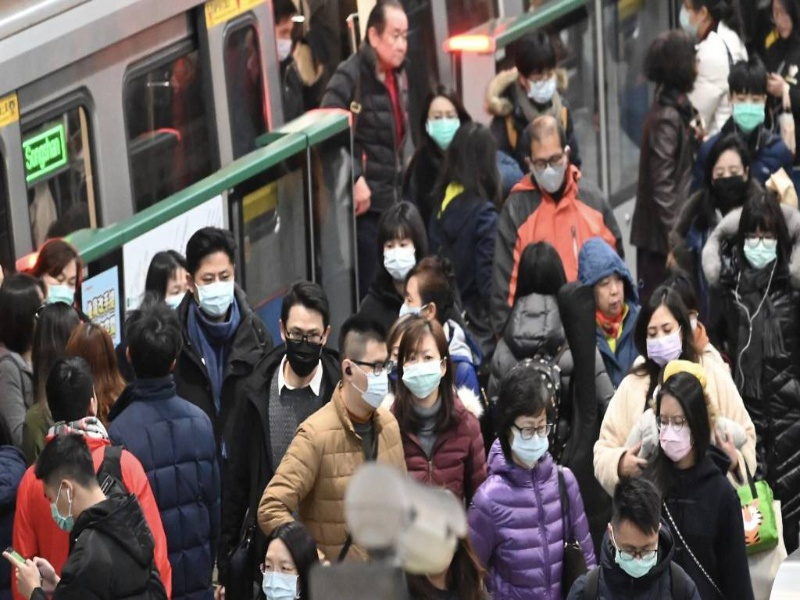ManaoArotava: (25, 447, 101, 550), (396, 308, 457, 414), (336, 319, 400, 420), (604, 483, 667, 585), (519, 118, 584, 216), (499, 378, 558, 482), (182, 232, 244, 325), (738, 199, 796, 291), (279, 283, 330, 379), (371, 205, 430, 285), (653, 386, 706, 474), (33, 238, 90, 319), (701, 131, 751, 212), (647, 286, 691, 378), (418, 88, 471, 158), (727, 62, 770, 148)
TsisyArotava: (583, 244, 640, 328)
